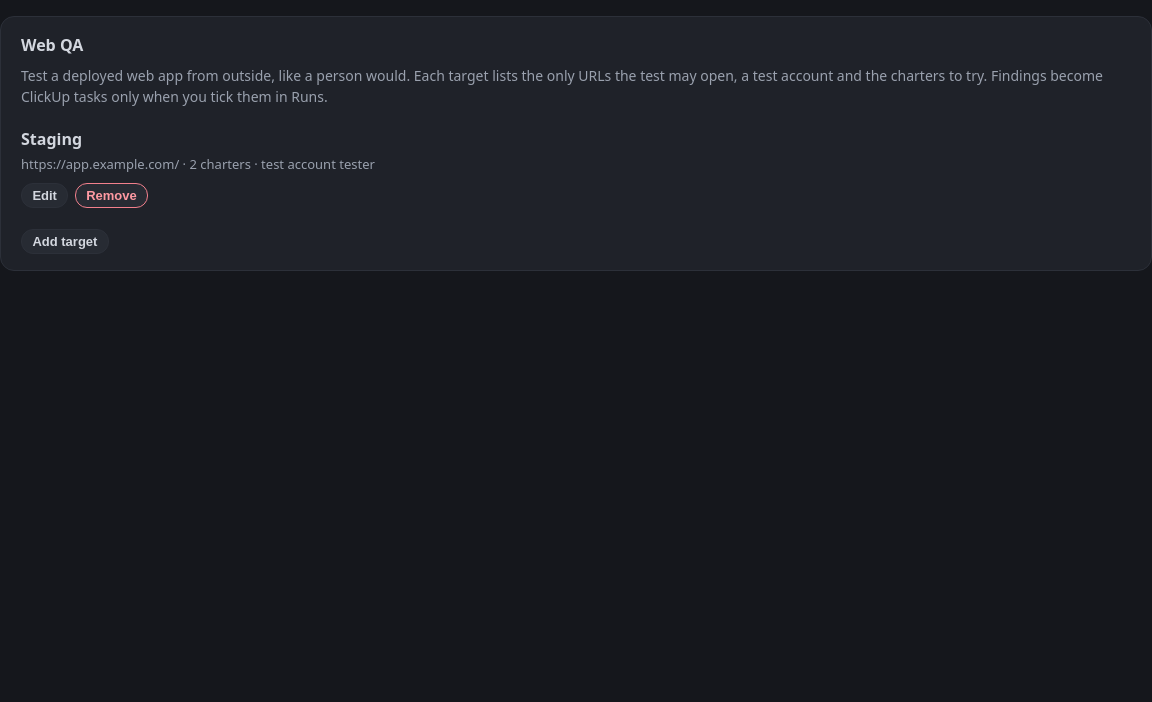
WebQaTargets › saves the password through the app, never into the target
The image size is (1152, 702).
Later steps or results of the test are not shown.
Click the button "Edit". click: (45, 195)
box: x1=21 y1=182 x2=68 y2=208
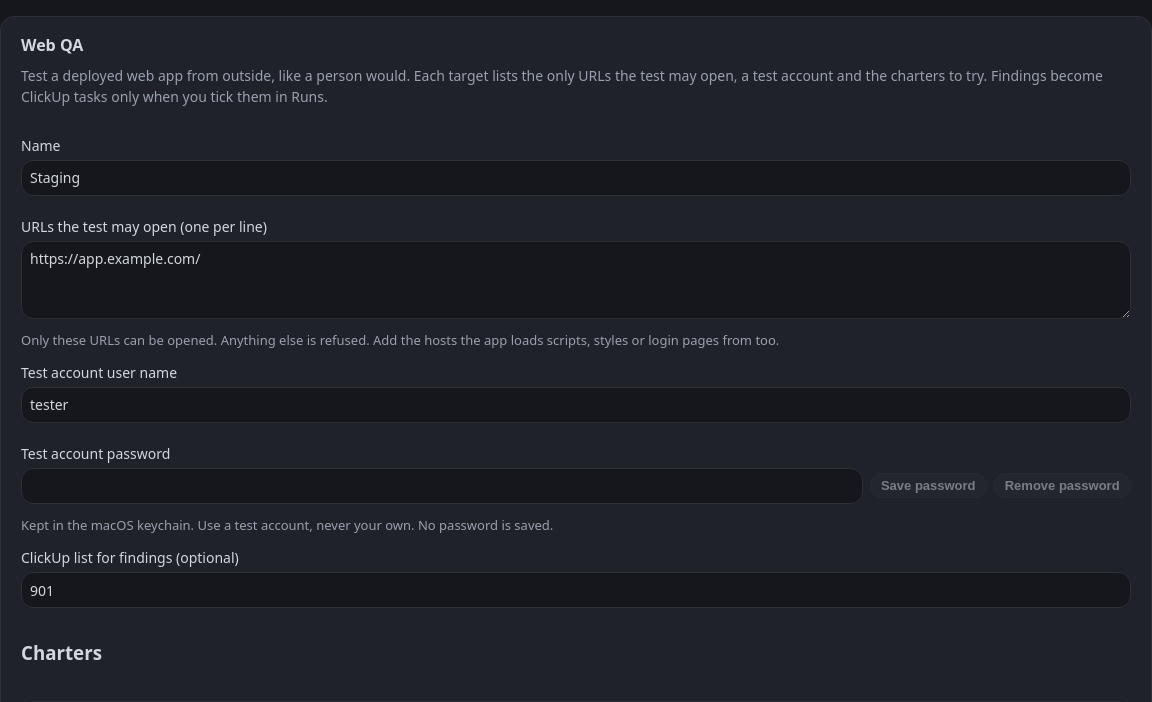
Now the text "Kept in the macOS keychain. Use a test account, never your own." is shown, box x1=21 y1=516 x2=415 y2=534
